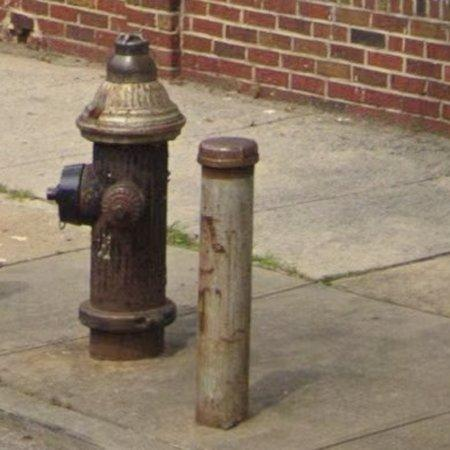a fire hydrant: (47, 33, 186, 360)
